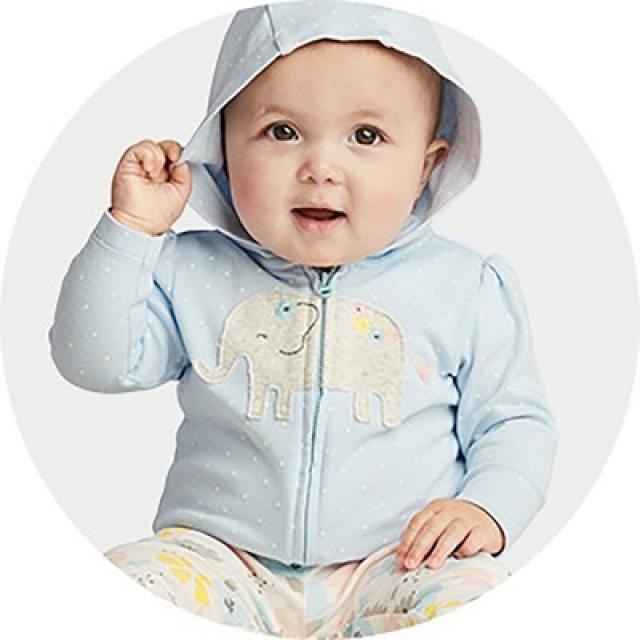non-dog: (47, 2, 558, 633)
